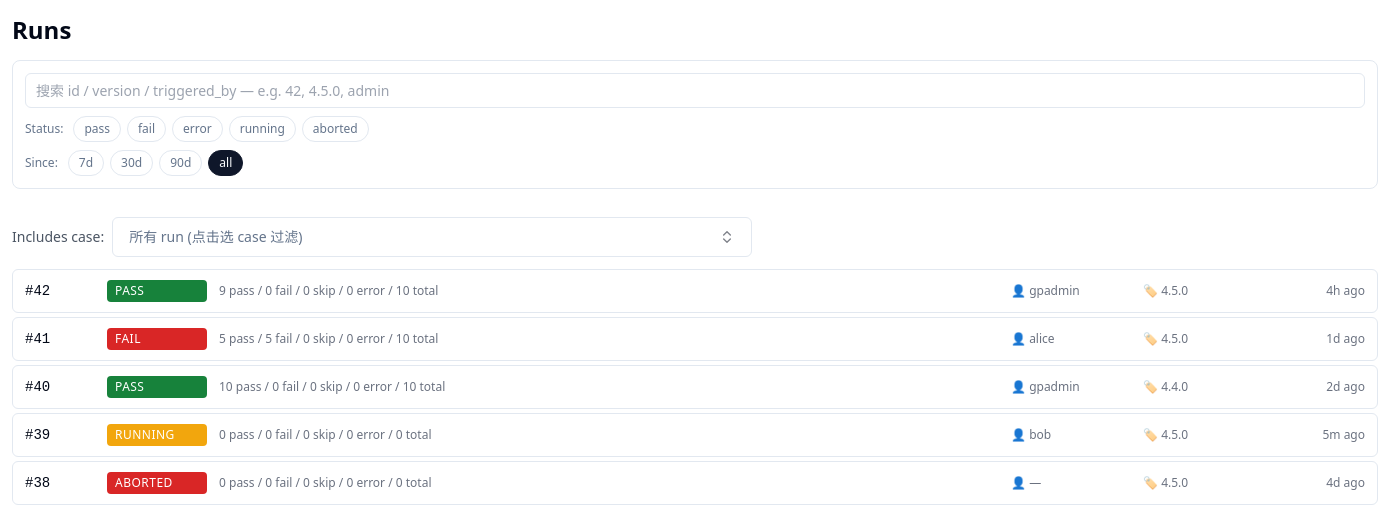
RunsPage › chip "pass" filters by verdict=pass (not raw status) — regression for pre-fix bug
The image size is (1378, 522).
expect the element with test id "runs-page-list" is shown: met, box [12,269,1377,505]
Step 1. Click the button with test id "filter-status-pass" → (97, 129), box [73,116,121,142]
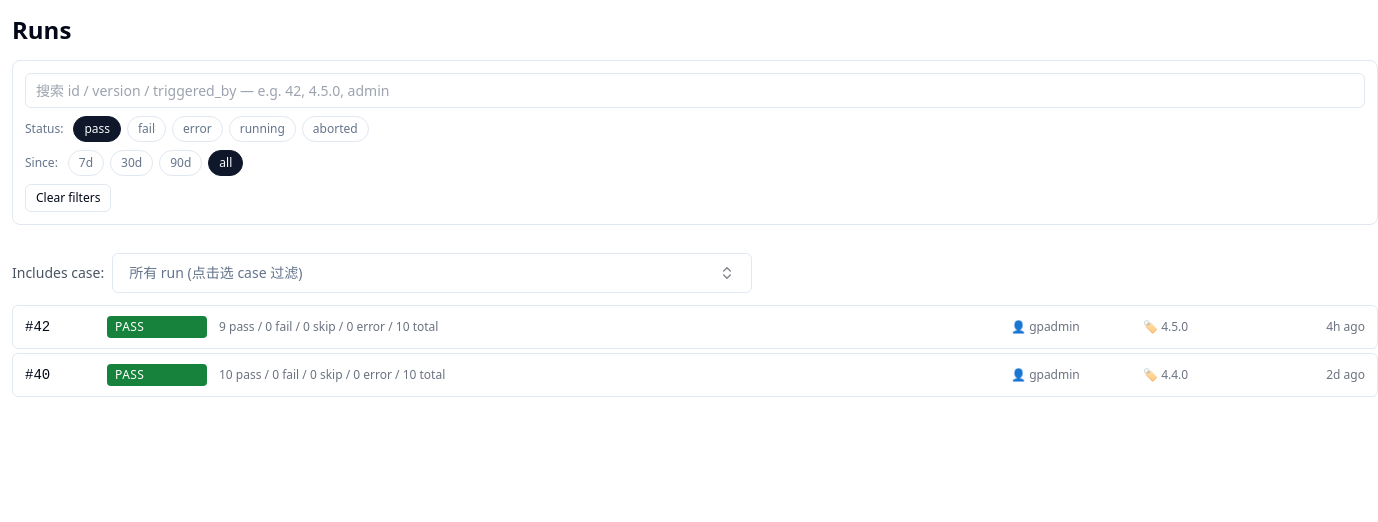
expect the link with test id "runs-page-row-41" is gone: met
expect the link with test id "runs-page-row-39" is gone: met
expect the link with test id "runs-page-row-38" is gone: met
